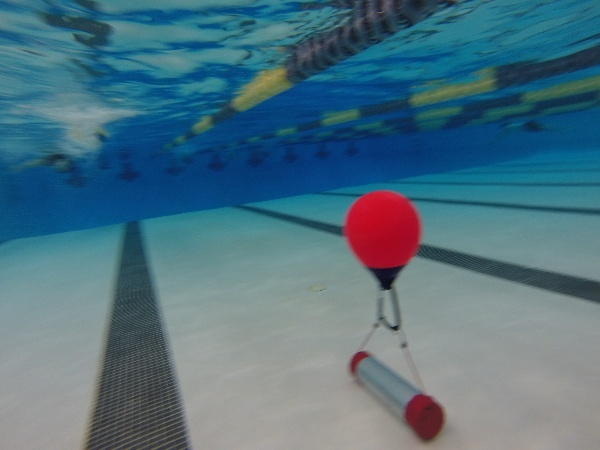buoy_red: (342, 191, 426, 291)
